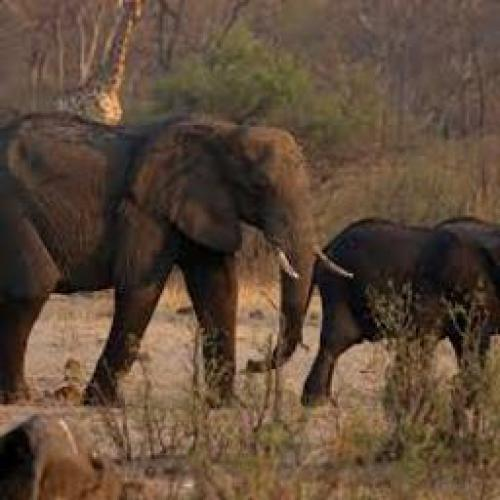african_elephant-endangered: (3, 110, 340, 409), (297, 212, 500, 410)
